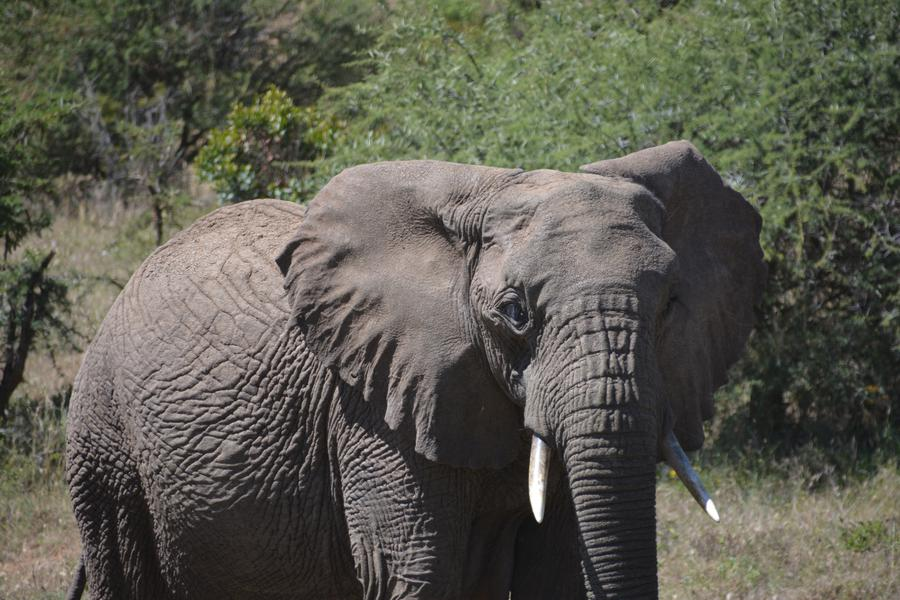elephant: (65, 141, 748, 579)
